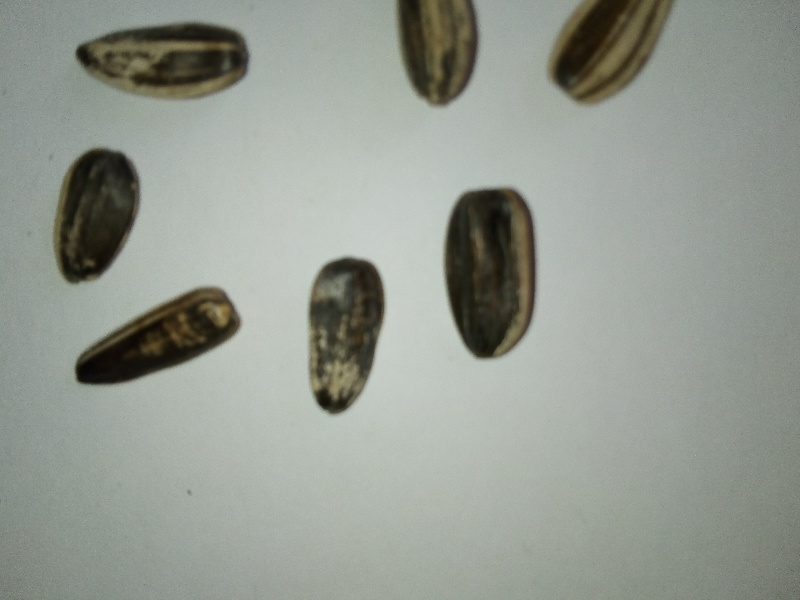girasol: (431, 182, 554, 369), (60, 285, 249, 393), (64, 15, 259, 111), (301, 250, 392, 426), (43, 140, 146, 295)
